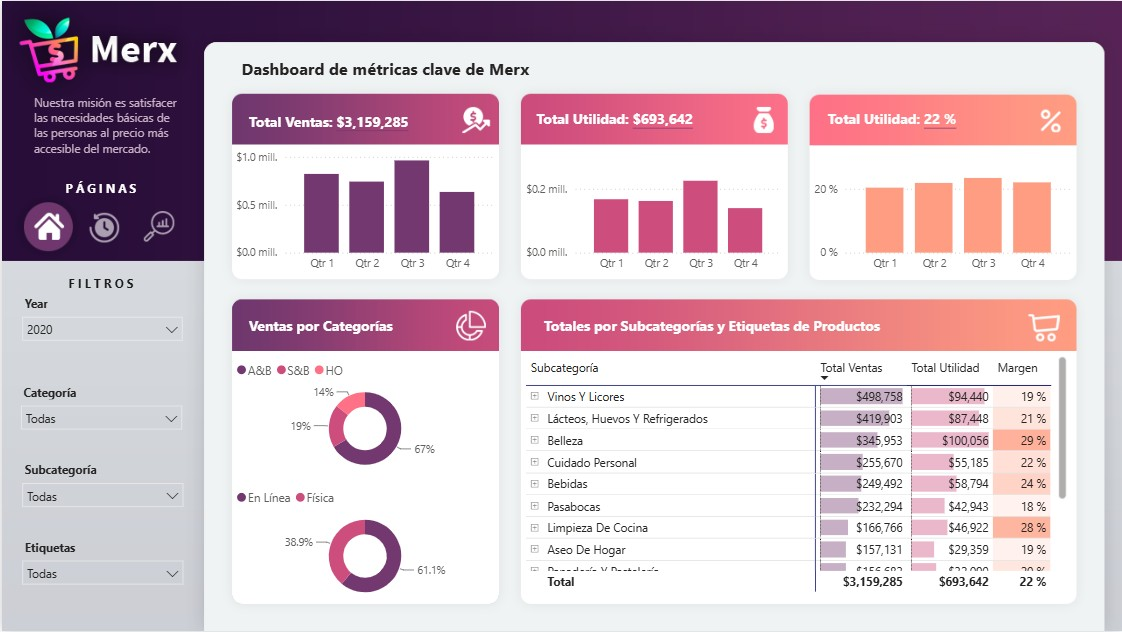

The page's visual inventory and layout, read from the dashboard file:
{"tool":"powerbi","page":{"name":"1","canvas":[1280,720],"ordinal":0},"visuals":[{"type":"pivotTable","fields":{"Rows":["Transacciones.Subcategoría","Transacciones.Etiquetas"],"Values":["Transacciones.Total Ventas","Transacciones.Total Utilidad","Transacciones.Margen"]},"box":[594.3,401.9,627.1,278.6],"z":0},{"type":"slicer","fields":{"Values":["Transacciones.Fecha.Variación.Date Hierarchy.Year"]},"box":[12.9,331.9,203.6,85.4],"z":1000},{"type":"slicer","fields":{"Values":["Transacciones.Categoría"]},"box":[12.1,432.9,204.4,73.3],"z":2000},{"type":"slicer","fields":{"Values":["Transacciones.Subcategoría"]},"box":[12.9,521.7,204.4,73.3],"z":3000},{"type":"slicer","fields":{"Values":["Transacciones.Etiquetas"]},"box":[12.9,610.5,204.4,73.3],"z":4000},{"type":"columnChart","fields":{"Category":["Transacciones.Fecha.Variación.Date Hierarchy.Year","Transacciones.Fecha.Variación.Date Hierarchy.Quarter","Transacciones.Fecha.Variación.Date Hierarchy.Month","Transacciones.Fecha.Variación.Date Hierarchy.Day"],"Y":["Transacciones.Total Ventas"]},"box":[262.2,163.9,304.5,153.5],"z":5000},{"type":"columnChart","fields":{"Category":["Transacciones.Fecha.Variación.Date Hierarchy.Year","Transacciones.Fecha.Variación.Date Hierarchy.Quarter","Transacciones.Fecha.Variación.Date Hierarchy.Month","Transacciones.Fecha.Variación.Date Hierarchy.Day"],"Y":["Transacciones.Total Utilidad"]},"box":[594.3,163.9,301.9,153.5],"z":6000},{"type":"columnChart","fields":{"Category":["Transacciones.Fecha.Variación.Date Hierarchy.Year","Transacciones.Fecha.Variación.Date Hierarchy.Quarter","Transacciones.Fecha.Variación.Date Hierarchy.Month","Transacciones.Fecha.Variación.Date Hierarchy.Day"],"Y":["Transacciones.Margen"]},"box":[922.9,163.9,305.3,153.5],"z":7000},{"type":"donutChart","fields":{"Y":["Transacciones.Total Ventas"],"Category":["Transacciones.Cat"]},"box":[263.1,401.9,304.5,144.9],"z":8000},{"type":"donutChart","fields":{"Y":["Transacciones.Total Ventas"],"Category":["Transacciones.Tipo de Compra"]},"box":[263.1,547.7,304.5,144.9],"z":9000},{"type":"textbox","box":[277.7,353.6,234.6,43.1],"z":10000},{"type":"textbox","box":[614.1,353.6,486.5,43.1],"z":11000},{"type":"textbox","box":[606.4,119,234.6,43.1],"z":12000},{"type":"textbox","box":[277.7,120.8,234.6,43.1],"z":13000},{"type":"textbox","box":[938.4,119,234.6,43.1],"z":14000},{"type":"textbox","box":[31.9,101.8,178.5,97.5],"z":15000},{"type":"textbox","box":[0,200.1,226,32.8],"z":16000},{"type":"textbox","box":[0,307.9,226,32.8],"z":17000},{"type":"textbox","box":[268.2,59.5,825.4,46.6],"z":18000},{"type":"actionButton","box":[93.2,239.8,45.7,39.7],"z":19000},{"type":"actionButton","box":[157.8,239.8,45.7,39.7],"z":20000},{"type":"actionButton","box":[31.9,238.9,45.7,39.7],"z":21000}]}

Visuals, with their boxes in screenshot pixels (x1, y1, x2, y2), scaled from the page's 1280x720 canvas onto the 1122x632 screenshot:
pivotTable - Transacciones.Subcategoría x Transacciones.Etiquetas: bbox(521, 353, 1071, 597)
slicer - Transacciones.Fecha.Variación.Date Hierarchy.Year: bbox(11, 291, 190, 366)
slicer - Transacciones.Categoría: bbox(11, 380, 190, 444)
slicer - Transacciones.Subcategoría: bbox(11, 458, 190, 522)
slicer - Transacciones.Etiquetas: bbox(11, 536, 190, 600)
columnChart - Transacciones.Fecha.Variación.Date Hierarchy.Year x Transacciones.Fecha.Variación.Date Hierarchy.Quarter: bbox(230, 144, 497, 279)
columnChart - Transacciones.Fecha.Variación.Date Hierarchy.Year x Transacciones.Fecha.Variación.Date Hierarchy.Quarter: bbox(521, 144, 786, 279)
columnChart - Transacciones.Fecha.Variación.Date Hierarchy.Year x Transacciones.Fecha.Variación.Date Hierarchy.Quarter: bbox(809, 144, 1077, 279)
donutChart - Transacciones.Total Ventas x Transacciones.Cat: bbox(231, 353, 498, 480)
donutChart - Transacciones.Total Ventas x Transacciones.Tipo de Compra: bbox(231, 481, 498, 608)
textbox: bbox(243, 310, 449, 348)
textbox: bbox(538, 310, 965, 348)
textbox: bbox(532, 104, 737, 142)
textbox: bbox(243, 106, 449, 144)
textbox: bbox(823, 104, 1028, 142)
textbox: bbox(28, 89, 184, 175)
textbox: bbox(0, 176, 198, 204)
textbox: bbox(0, 270, 198, 299)
textbox: bbox(235, 52, 959, 93)
actionButton: bbox(82, 210, 122, 245)
actionButton: bbox(138, 210, 178, 245)
actionButton: bbox(28, 210, 68, 245)
